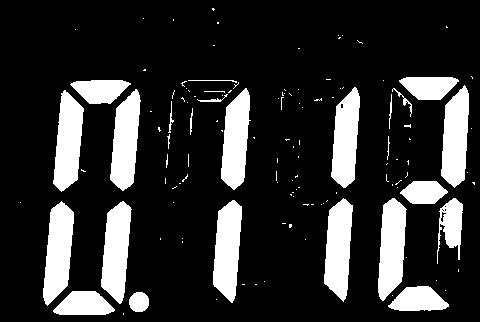0: (38, 76, 144, 318)
1: (212, 84, 254, 304), (322, 86, 364, 304)
2: (377, 76, 472, 314)
dot: (129, 291, 150, 313)
